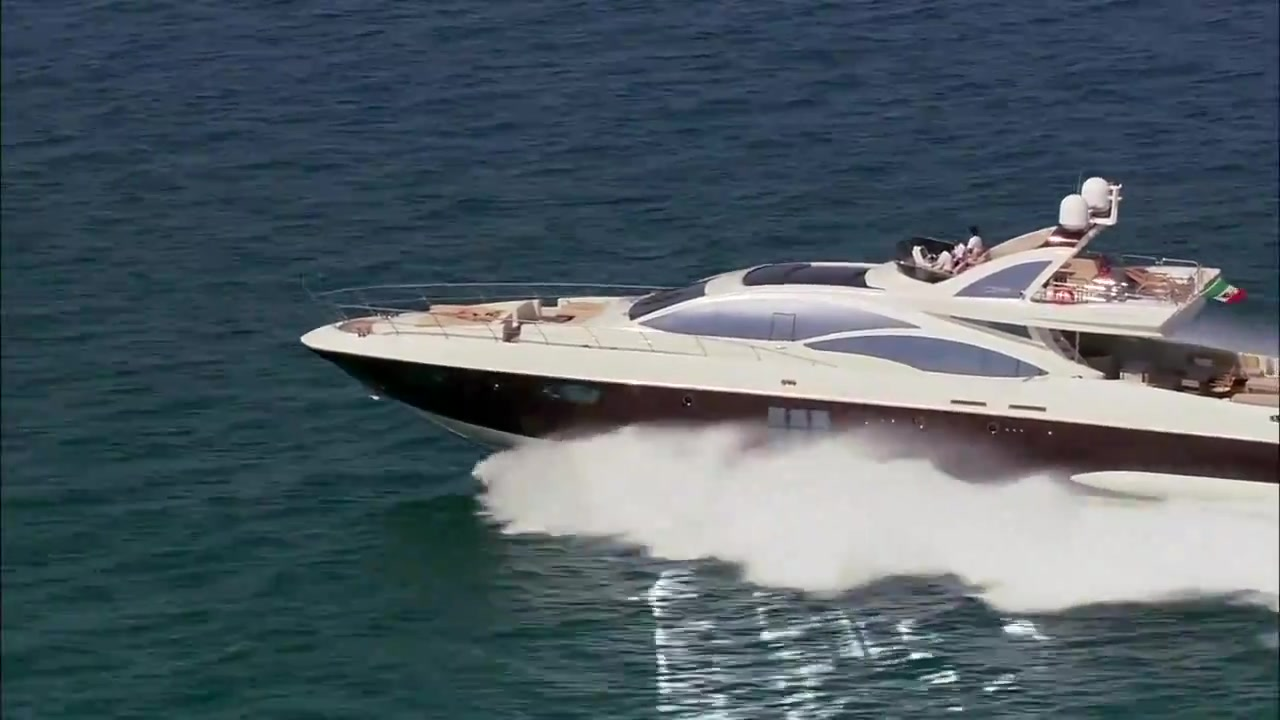boat: (288, 171, 1279, 487)
